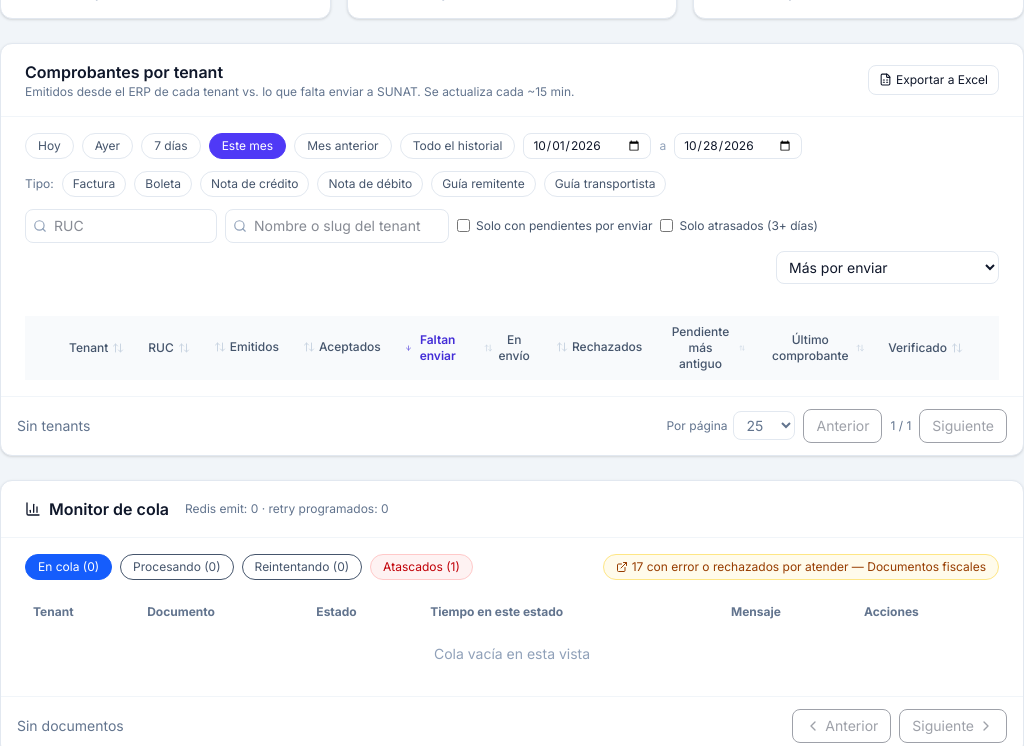
Test: OperacionesFiscalesPage — Fase 4 › Matriz B: transient retryable=true SÍ presenta "Reprocesar" y se muestra "En proceso"
(page scrolled)
Expected: the text "Monitor de cola" is shown, [49,496,169,520]
Click the button "Atascados (1)" at (422, 566), box [370,554,473,580]
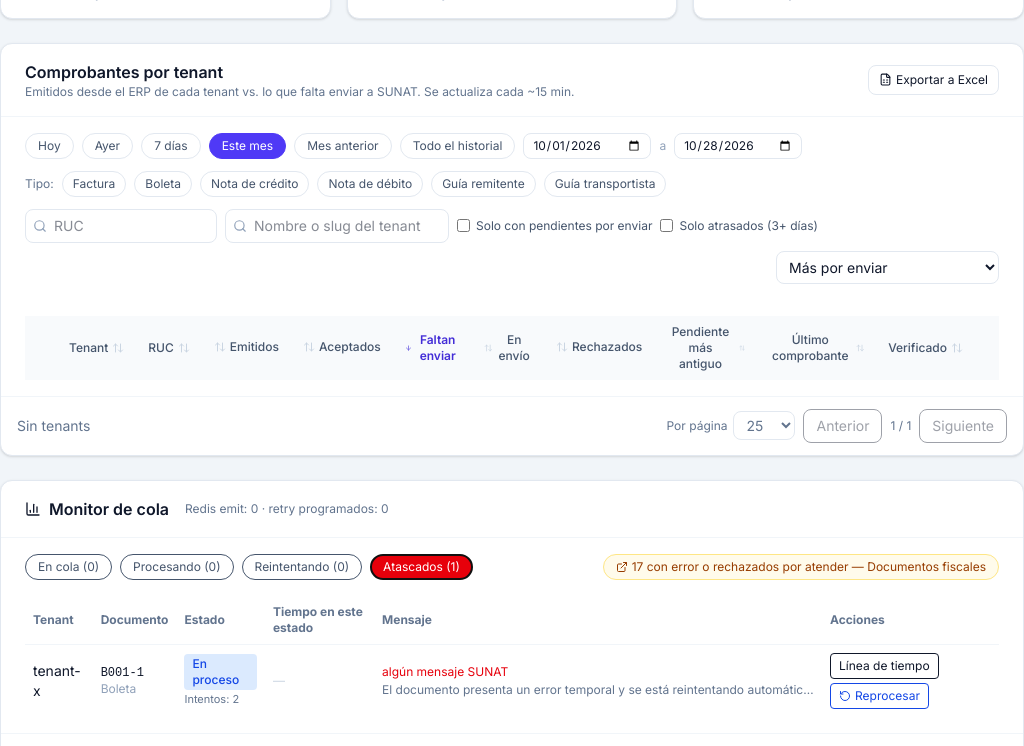
Expected: the text "tenant-x" is shown, [25,644,93,716]
Expected: the button "Reprocesar" is shown, [830,682,929,708]
Expected: the text "En proceso" is shown, [184,654,257,690]
